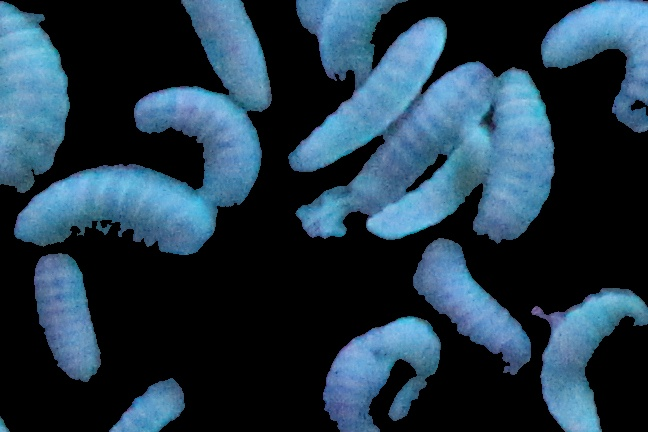larvae: (315, 64, 498, 237), (288, 23, 449, 167), (134, 74, 266, 215), (10, 171, 220, 259), (408, 237, 532, 374), (543, 280, 648, 426), (1, 1, 71, 213), (478, 69, 557, 236), (322, 318, 437, 432), (376, 132, 491, 240), (176, 1, 273, 115), (30, 250, 108, 386), (541, 1, 648, 81)
